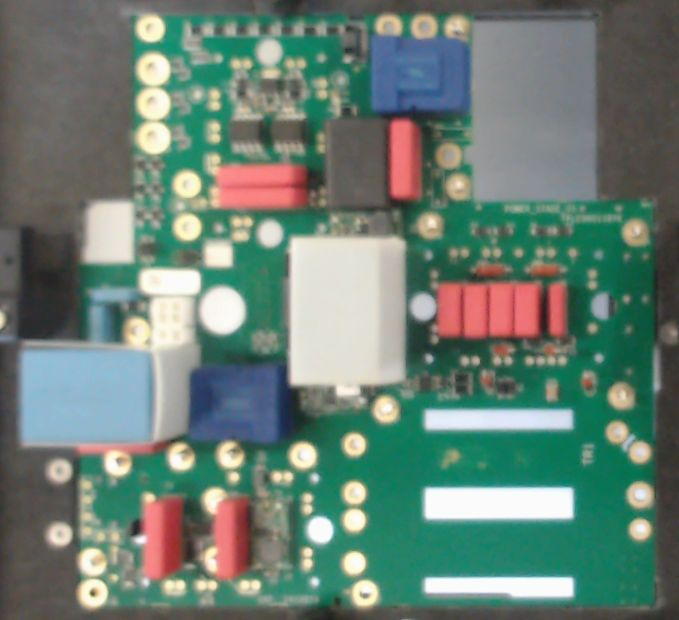comp1: (370, 34, 470, 118), (190, 366, 289, 444)
comp2: (143, 496, 182, 580), (387, 117, 424, 205), (215, 496, 249, 578), (217, 186, 308, 209), (217, 165, 309, 186), (513, 281, 541, 341), (462, 281, 489, 342), (489, 281, 514, 344), (436, 281, 462, 340), (547, 282, 569, 340)
comp3: (323, 117, 390, 210)
comp4: (17, 338, 198, 445), (289, 234, 408, 386)
